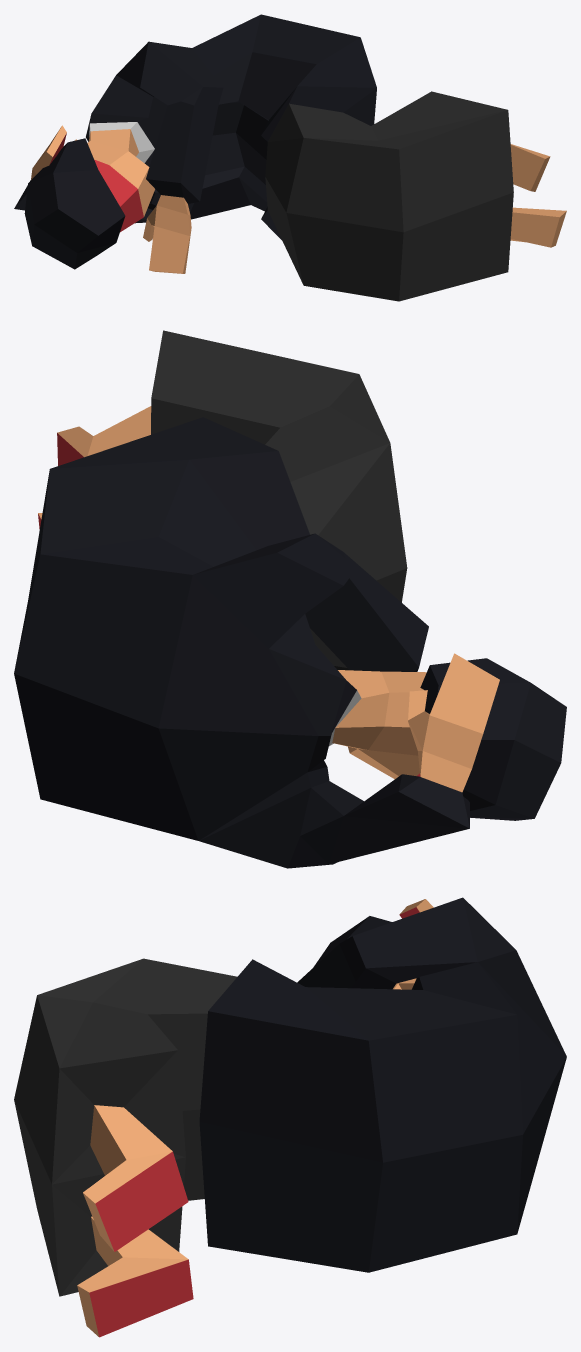
The model's file is apocalypse-man-samurai-black-dead-b.glb.
3 renders of one model, top to bottom at view 1: azimuth 30°, elevation 25°; view 2: azimuth 150°, elevation 25°; view 3: azimuth 270°, elevation 25°, orthographic. The views are drawn at different scales.
Parts seen in each view (by area): view 1: man-samurai-black-dead-b; view 2: man-samurai-black-dead-b; view 3: man-samurai-black-dead-b.
Part boxes in pixels (x1=…): man-samurai-black-dead-b: x1=14, y1=14, x2=566, y2=301; man-samurai-black-dead-b: x1=14, y1=330, x2=566, y2=868; man-samurai-black-dead-b: x1=14, y1=897, x2=566, y2=1337.
Bounding box in the file's own units: 1.14 × 0.461 × 0.8946.
